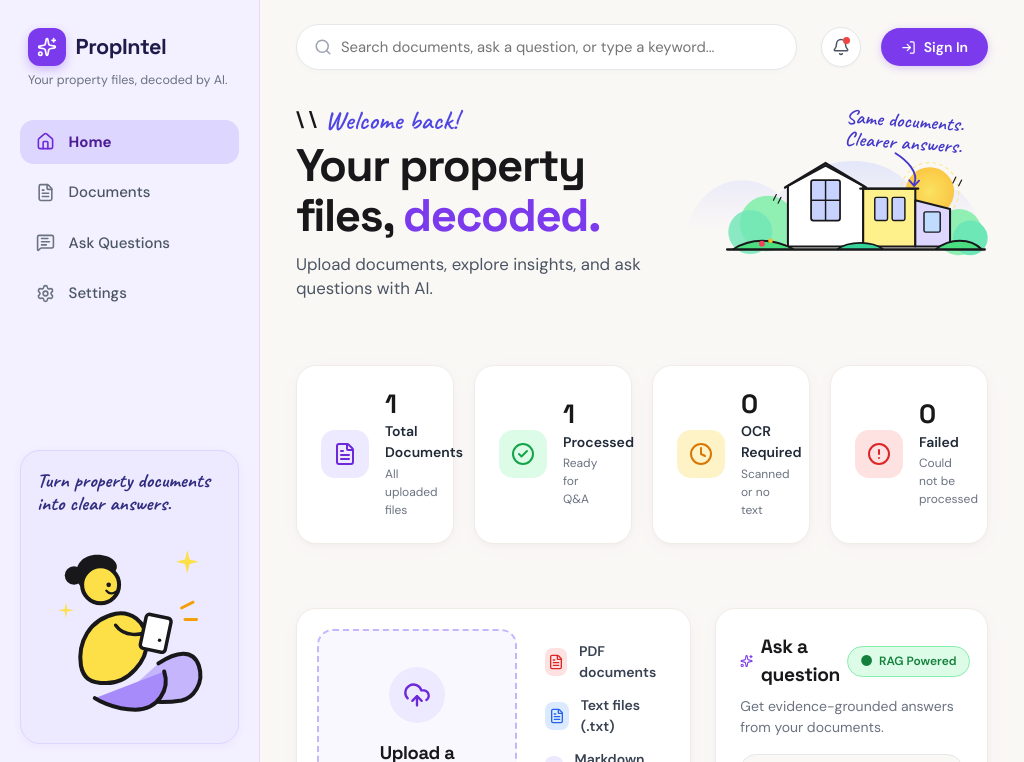
Test: App Routing & Shell Tests › navigates to Settings page when clicking Settings nav item
The image size is (1024, 762).
Click the button "Settings".
click(130, 293)  # box [20,271,239,315]
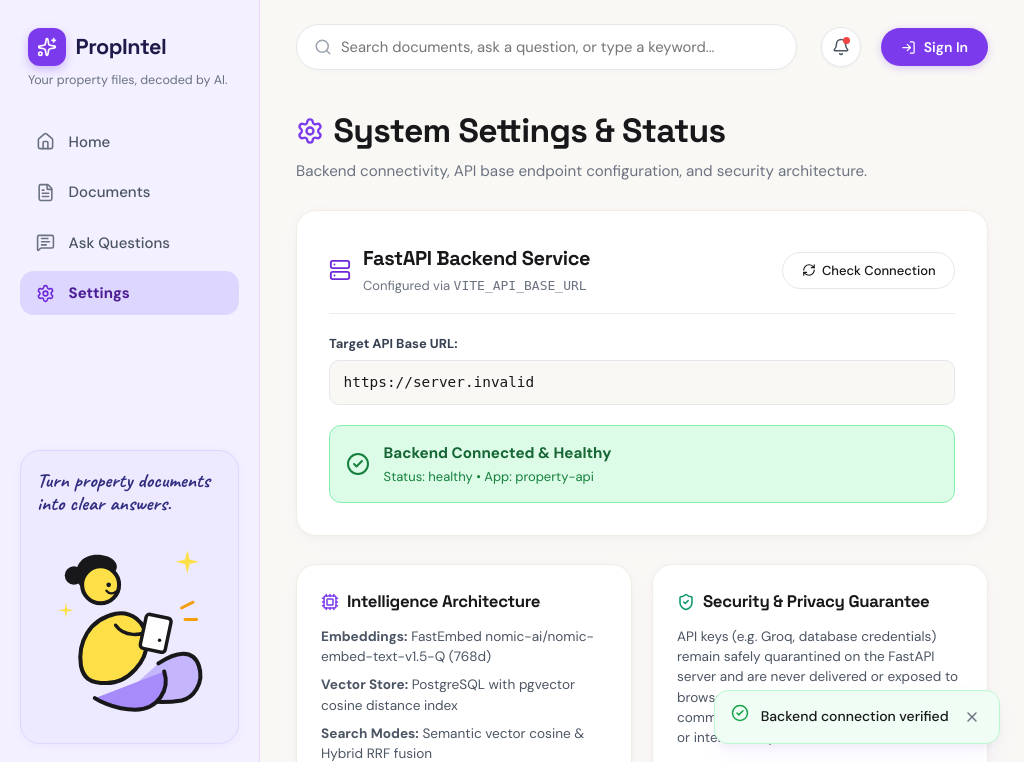
Result: the heading "System Settings & Status" is shown at [334,106,726,156]
Result: the heading "FastAPI Backend Service" is shown at [363,243,590,273]
